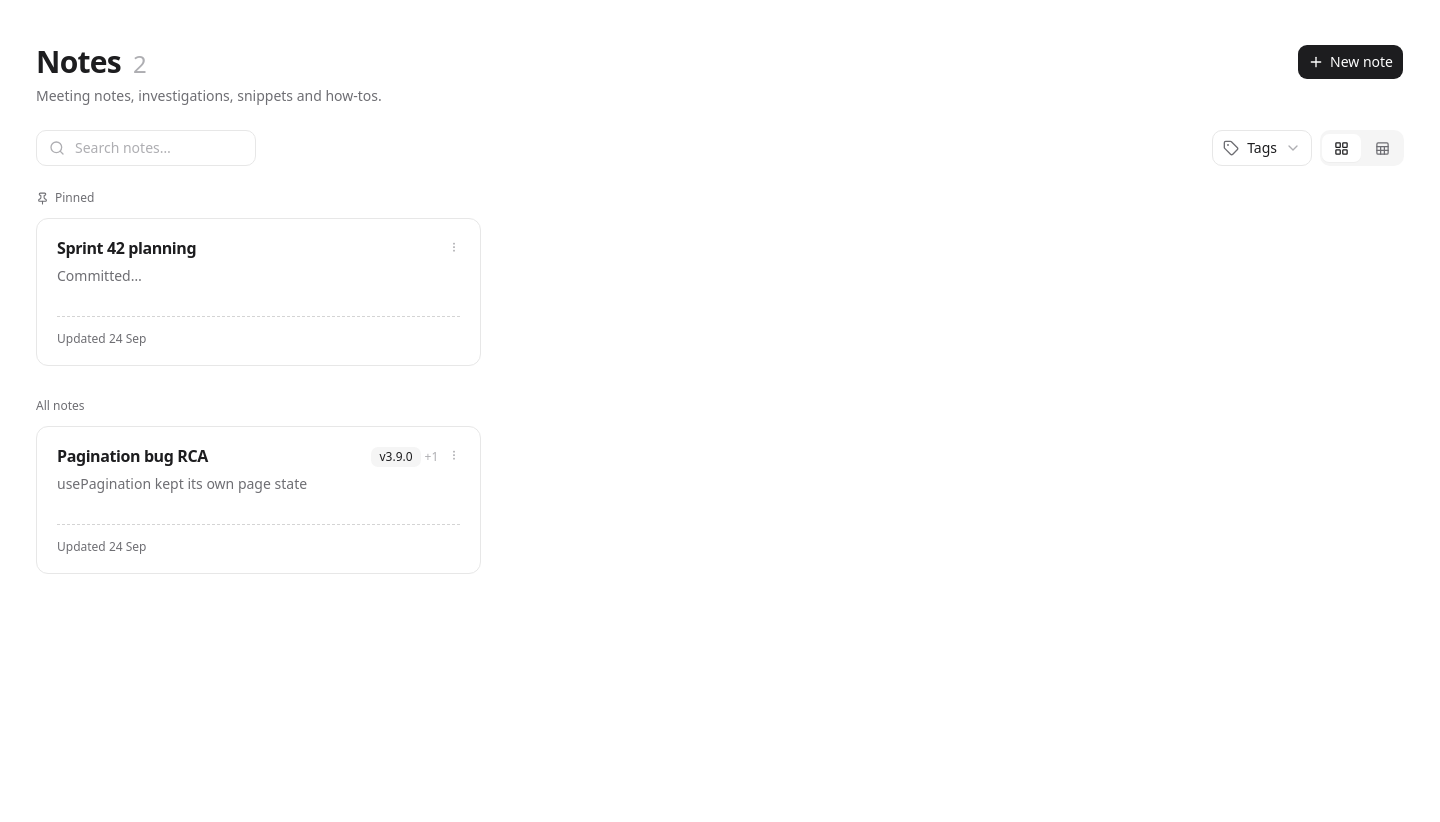
Test: NotesPage › discards a new note left completely empty
Expected: the heading "Sprint 42 planning" is shown, [57,237,196,259]
Click the button "New note". click: click(1350, 62)
box: [1297,44,1404,80]
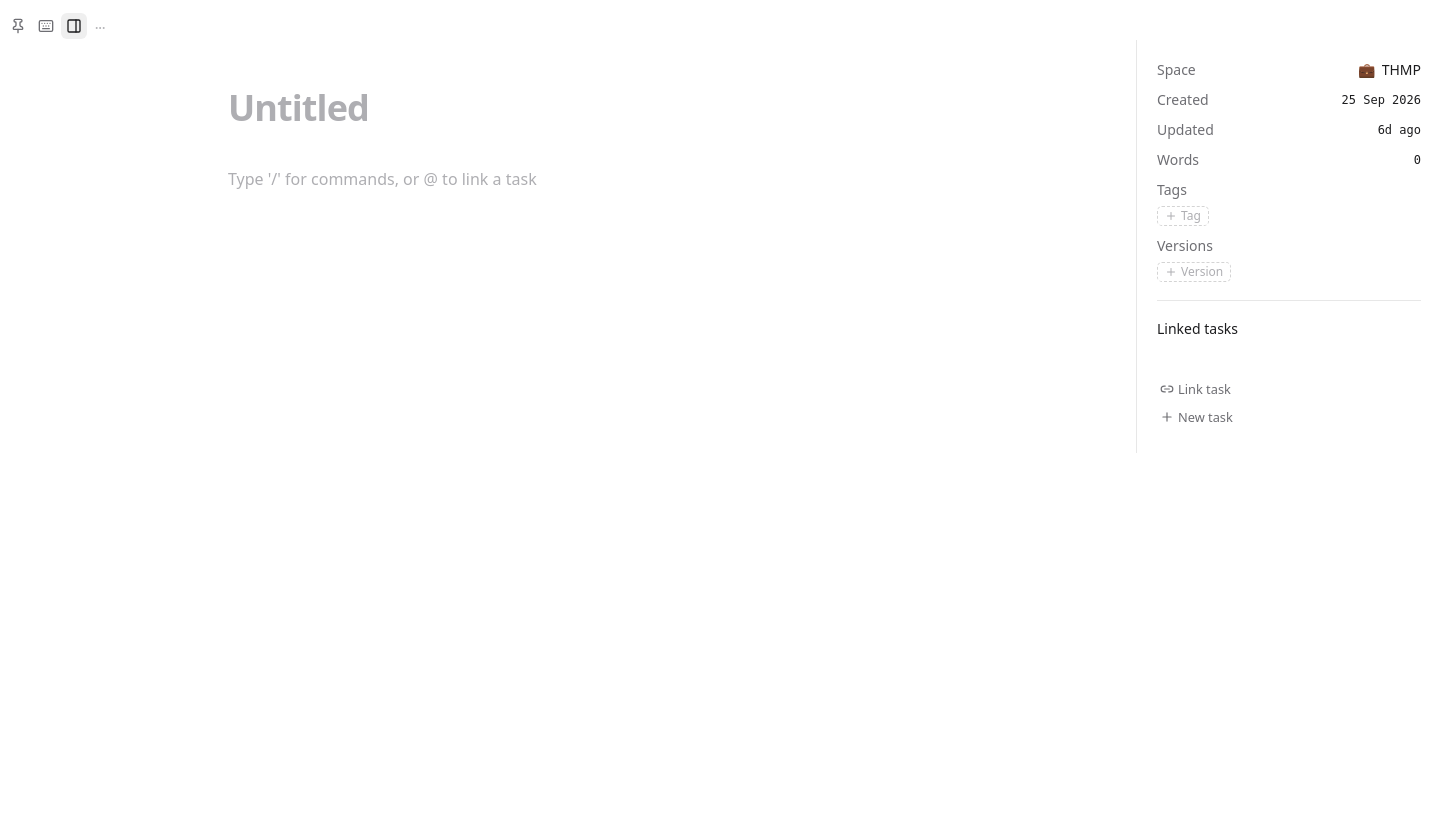
Expected: the text box named "Note title" is shown, [228,88,908,132]
